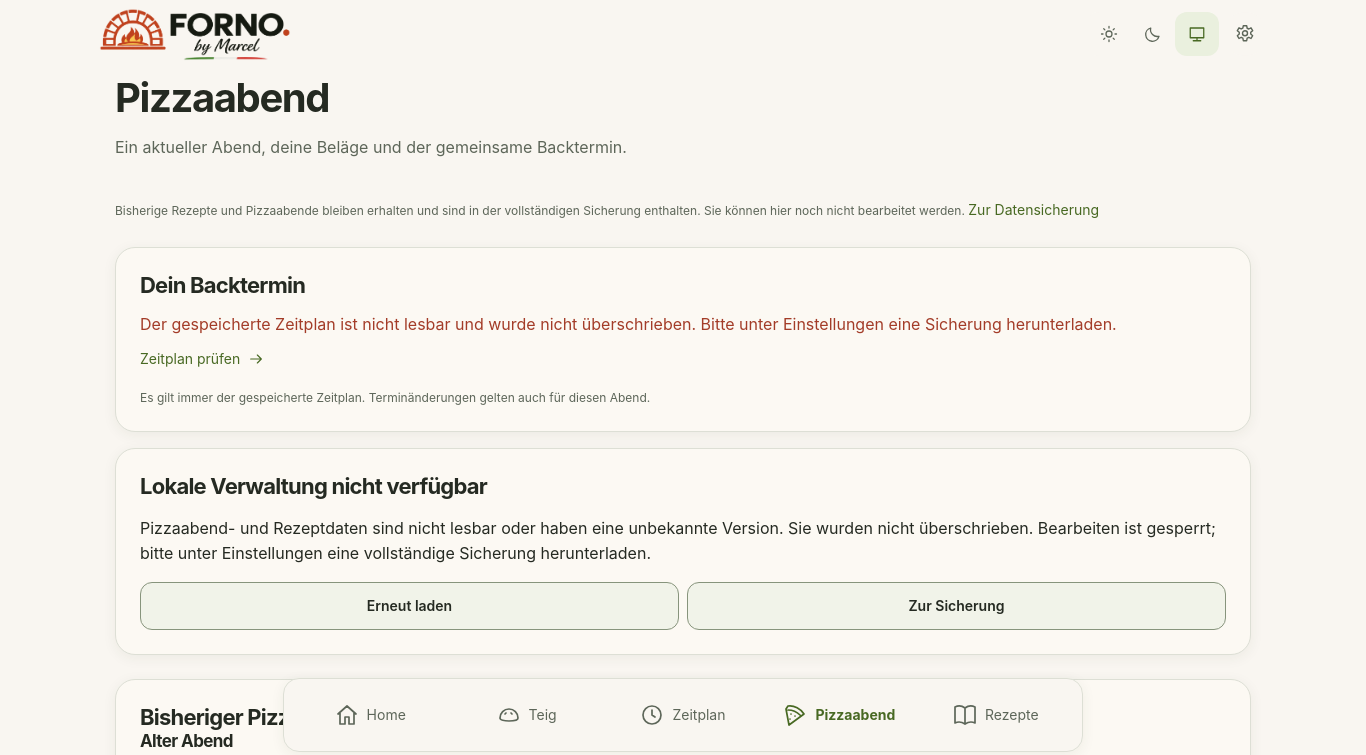
Scenario: P3 recipes, evening and draft protection › separates legacy display, blocks unreadable P3 data, leaves backup/calculator available and respects schedule errors
Check: the heading "Bisheriger Pizzaabend" is shown, box [140,704,365,730]
Check: the heading "Alter Abend" is shown, box [140,731,233,751]
Click the link "Rezepte" at (996, 715), box [953,703,1039,727]
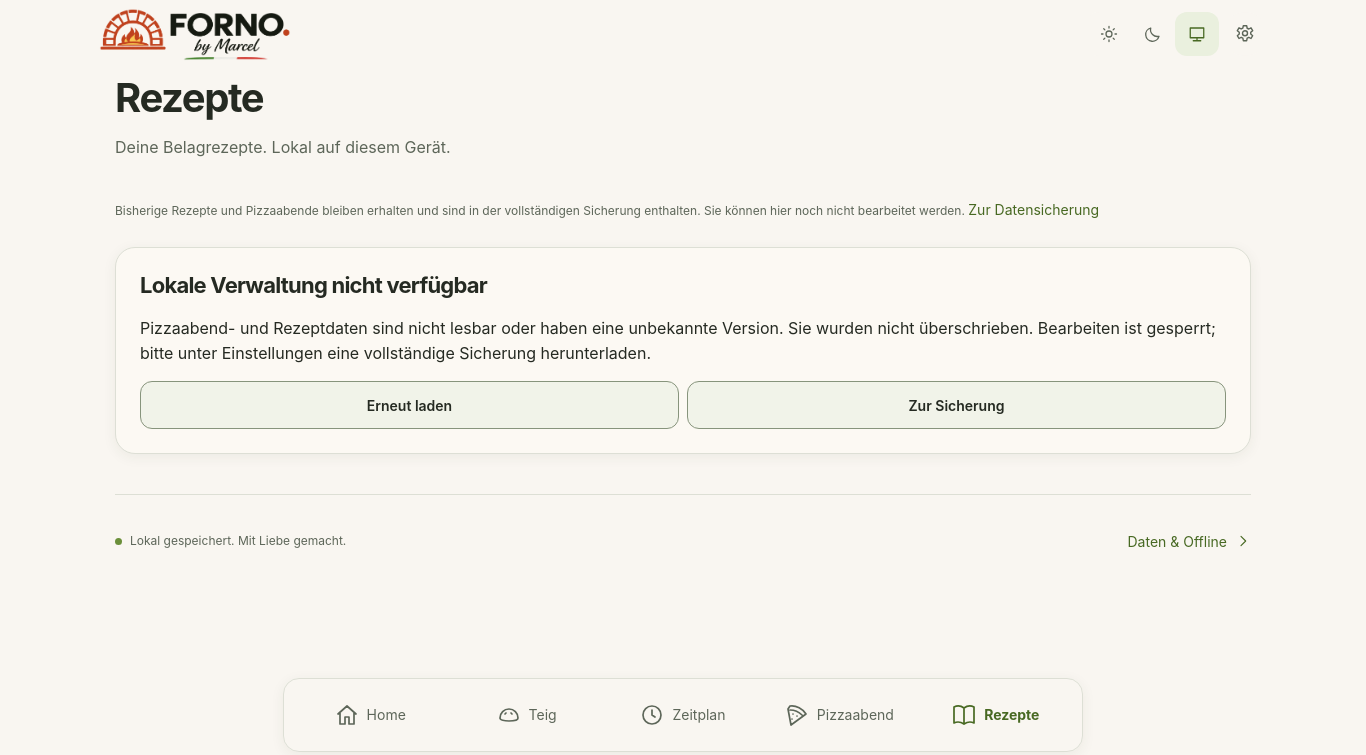
Check: the heading "Lokale Verwaltung nicht verfügbar" is shown, box [140,272,487,298]
Click the link "Teig" at (527, 715), box [496,703,557,727]
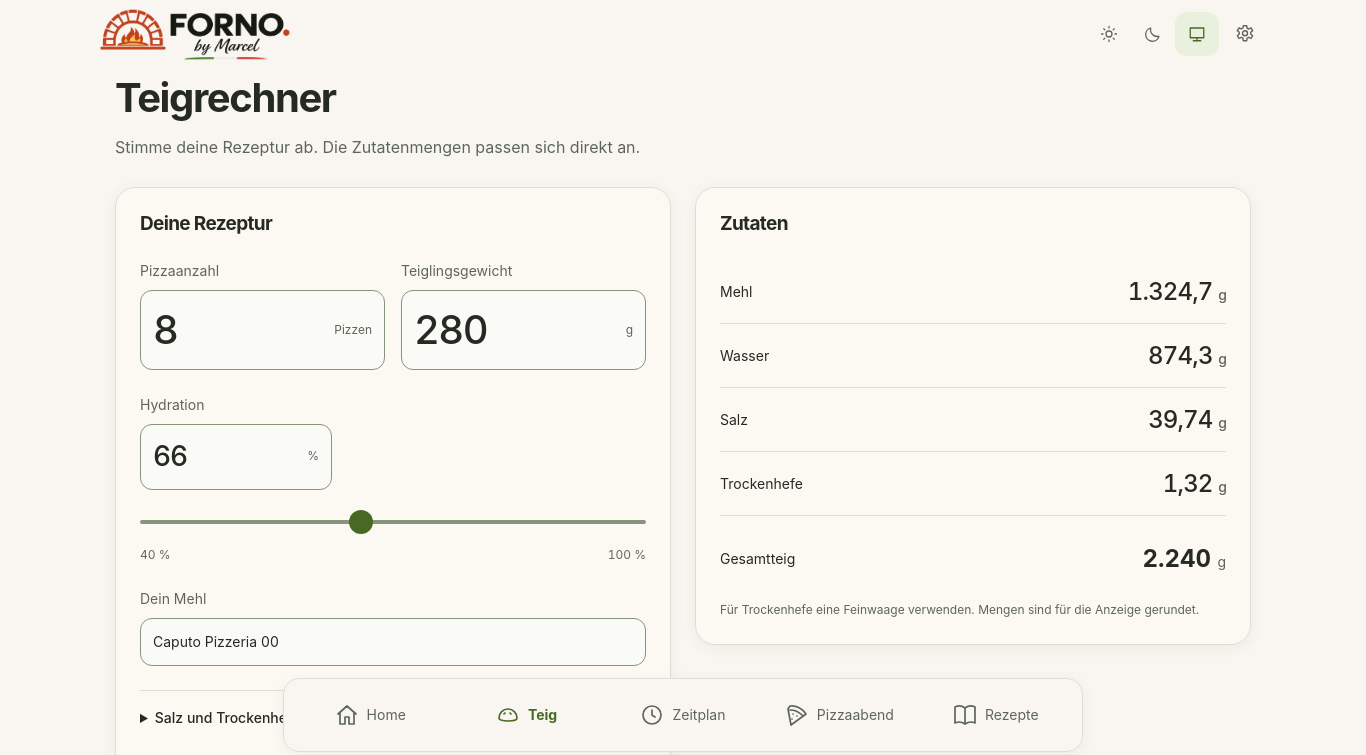
Check: the field labelled "Pizzaanzahl Pizzen" is shown, box [153,299,326,361]
Click the link named "Einstellungen" at (1245, 34), box [1223,12,1267,56]
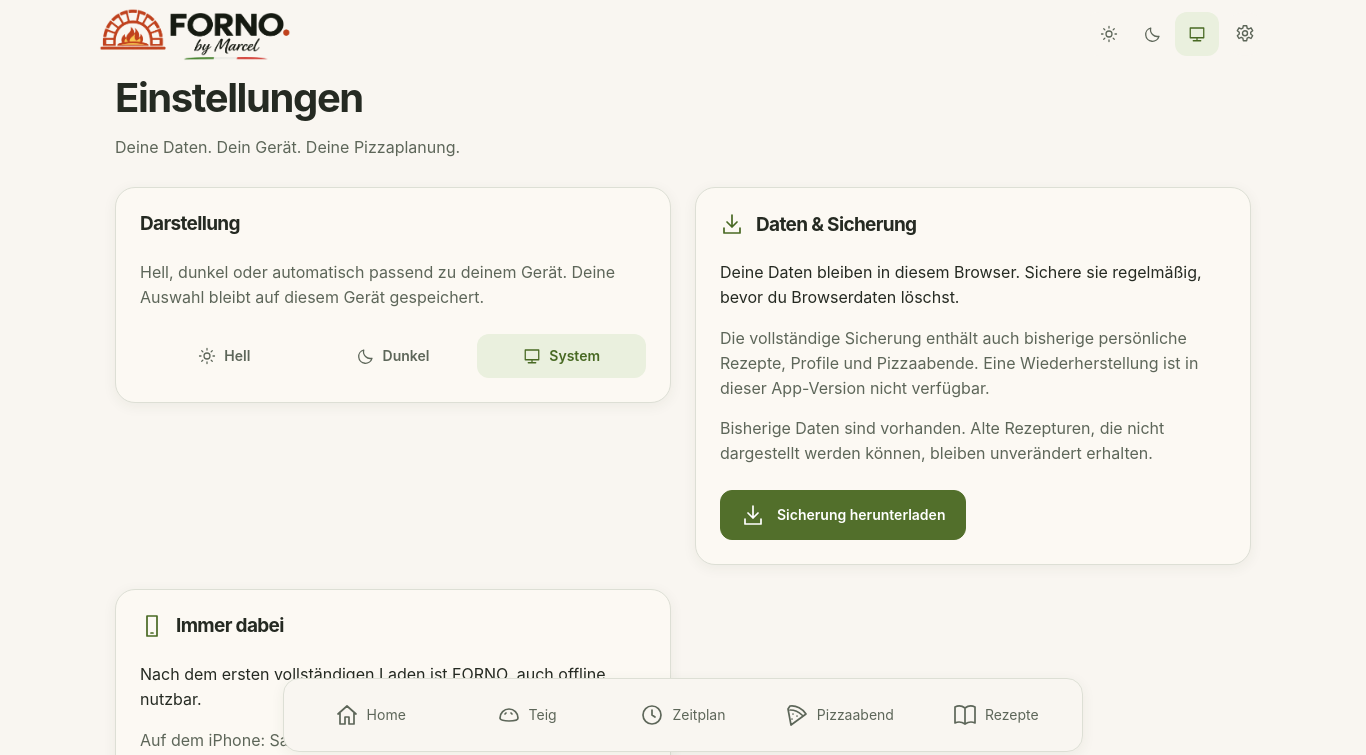
Check: the button "Sicherung herunterladen" is enabled, box [720,490,966,540]
